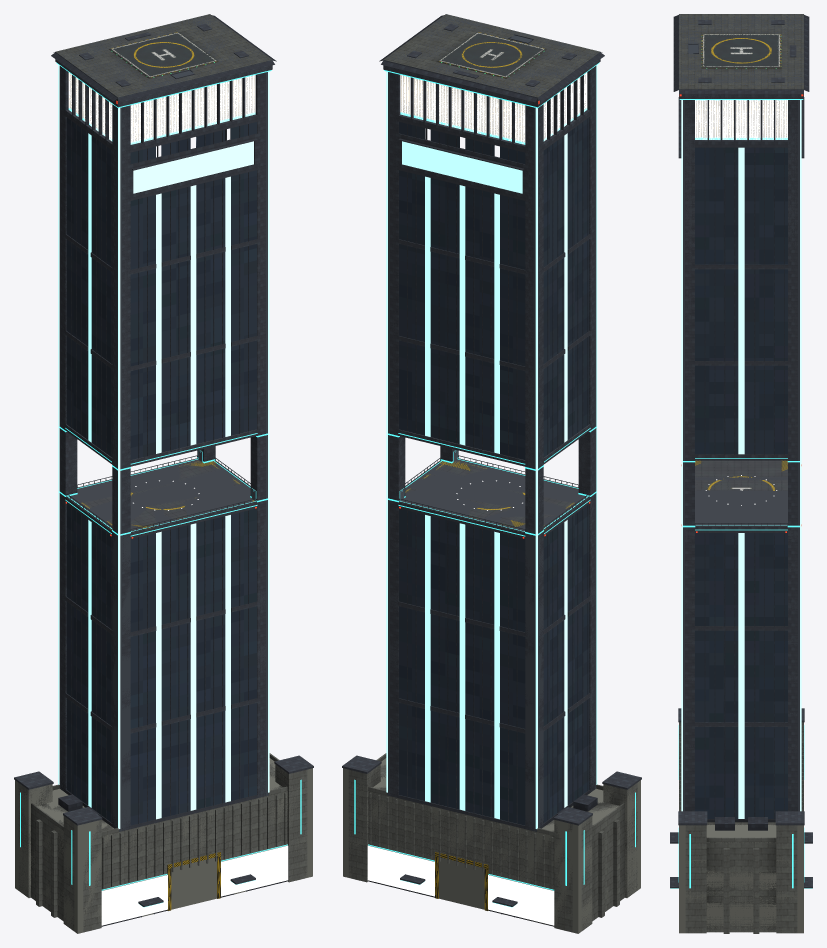
File: skyhigh.glb
3 views of the same model, side by side, from view 1: azimuth 30°, elevation 25°; view 2: azimuth 150°, elevation 25°; view 3: azimuth 270°, elevation 25° (orthographic).
Parts seen in each view (by area): view 1: skyhigh_far, skyhigh, skyhigh_glow; view 2: skyhigh_far, skyhigh, skyhigh_glow; view 3: skyhigh_far, skyhigh, skyhigh_glow.
Part boxes in pixels (x1,y1,x2,y2): skyhigh_far: (15, 14, 312, 933); skyhigh: (14, 14, 313, 932); skyhigh_glow: (20, 51, 301, 907); skyhigh_far: (343, 14, 640, 933); skyhigh: (342, 14, 641, 932); skyhigh_glow: (354, 51, 635, 907); skyhigh_far: (679, 14, 803, 933); skyhigh: (670, 14, 812, 933); skyhigh_glow: (670, 36, 812, 888).
Bounding box in the file's own units: 82.4 × 274 × 43.
Materials: 8 (5 with a texture image).
